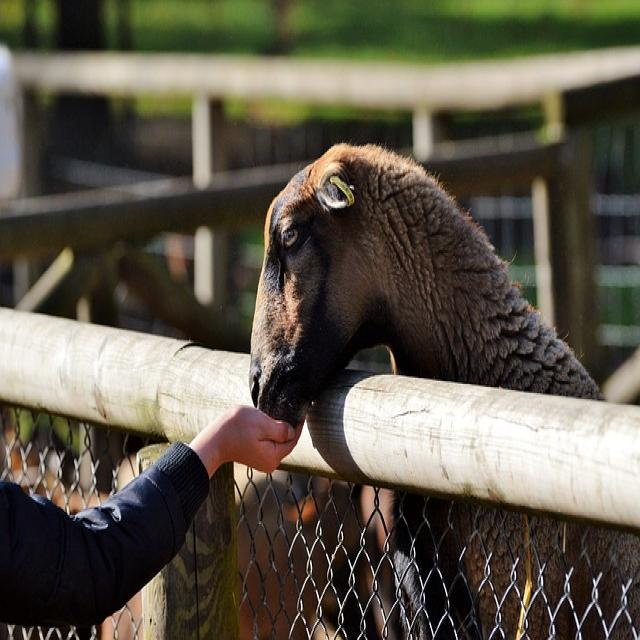goat: (249, 143, 602, 461)
